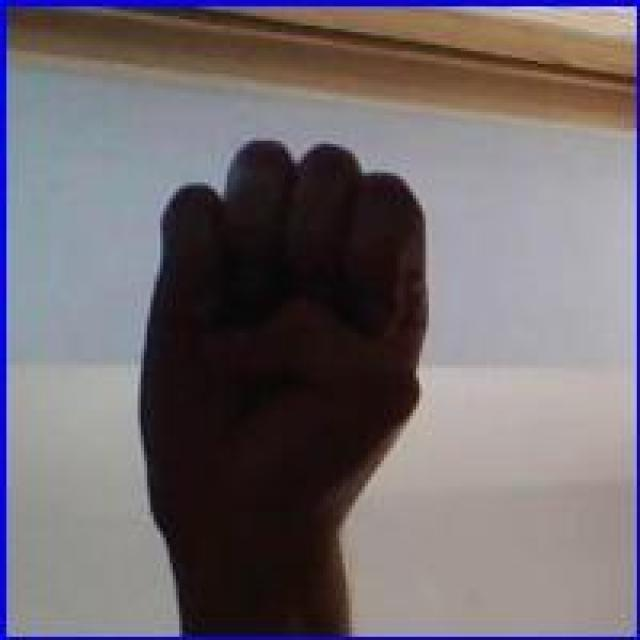E: (138, 134, 428, 525)
